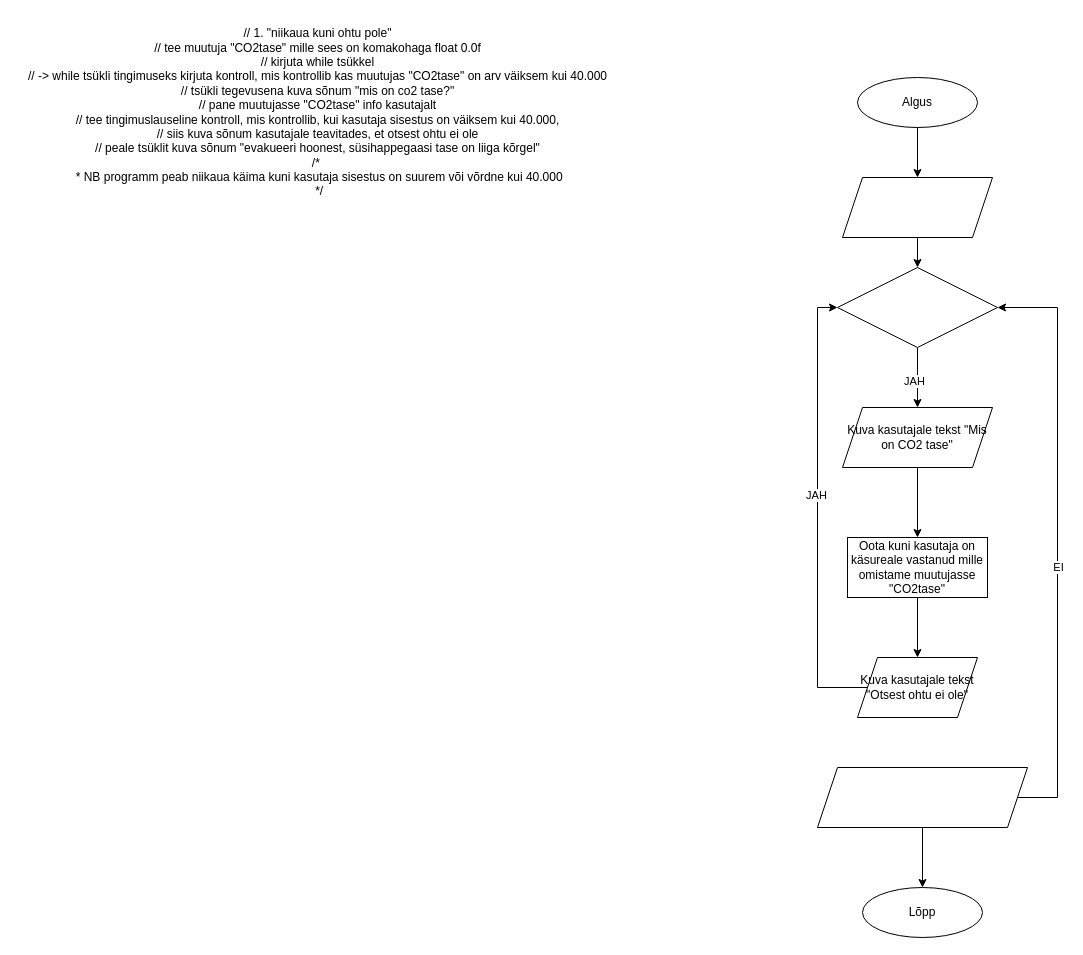
Some shapes in this 1083 by 955 pixel diagram are drawn without their labels. The centre of each missing label's shape, as x and y in pixels:
Kas väärtus muutujas "CO2tase" on väiksem kui 40.000f?: the point at 917,307
Kuva kasutajale tekst "evakueeri hoonest, süsihappegaasi tase on liiga kõrgel": the point at 922,797
Tekkita muutuja "CO2tase" millele omistame algväärtuse 0.0f: the point at 917,207
